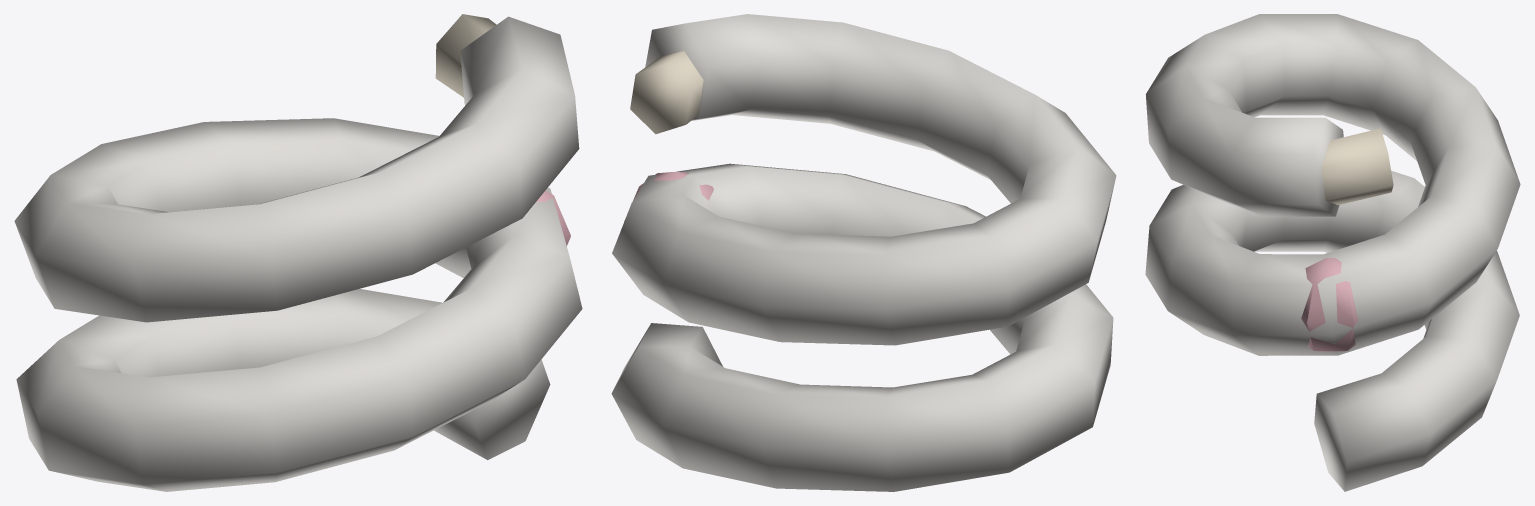
File: hand_wrap_2.glb
3 views of the same model, side by side, from view 1: azimuth 30°, elevation 25°; view 2: azimuth 150°, elevation 25°; view 3: azimuth 270°, elevation 25° (orthographic). The views are drawn at different scales.
Parts seen in each view (by area): view 1: hand_wrap_2; view 2: hand_wrap_2; view 3: hand_wrap_2.
Part boxes in pixels (x1,y1,x2,y2): hand_wrap_2: (14,14,582,491); hand_wrap_2: (611,14,1116,491); hand_wrap_2: (1145,14,1520,491).
Size of what is drawn, in the model's own units: 0.1 by 0.08 by 0.075.
